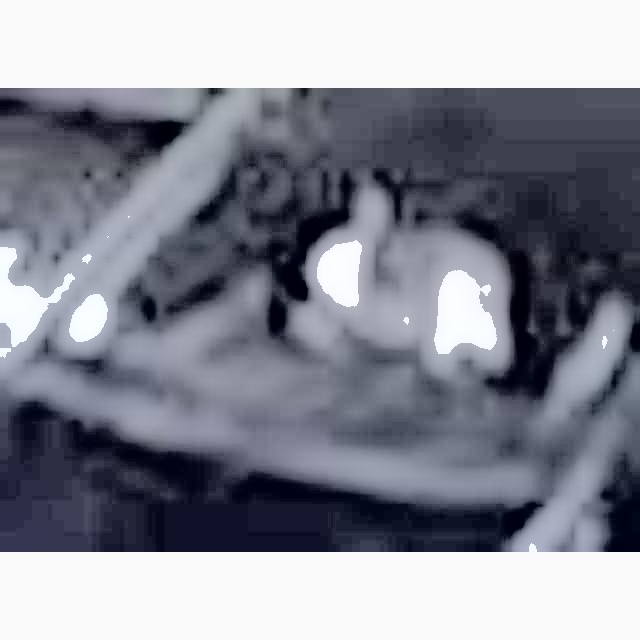tidak-pakai: (258, 160, 506, 408)
